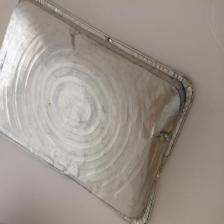metal: (0, 4, 188, 220)
